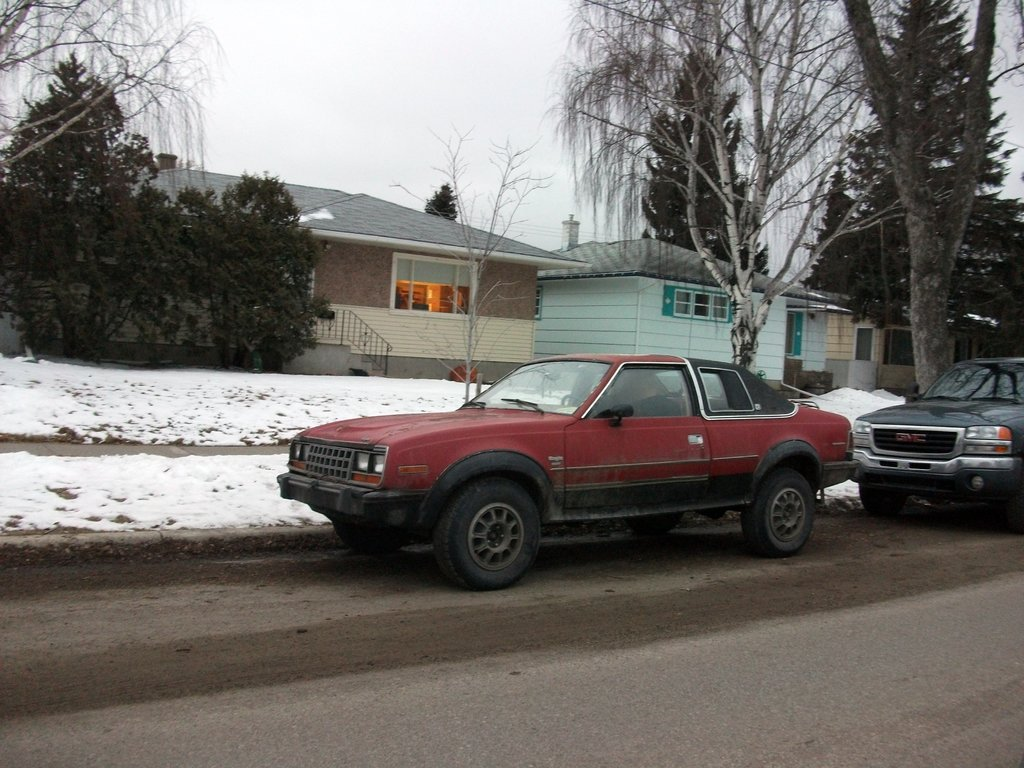Car: (275, 350, 861, 587), (853, 359, 1023, 535)
